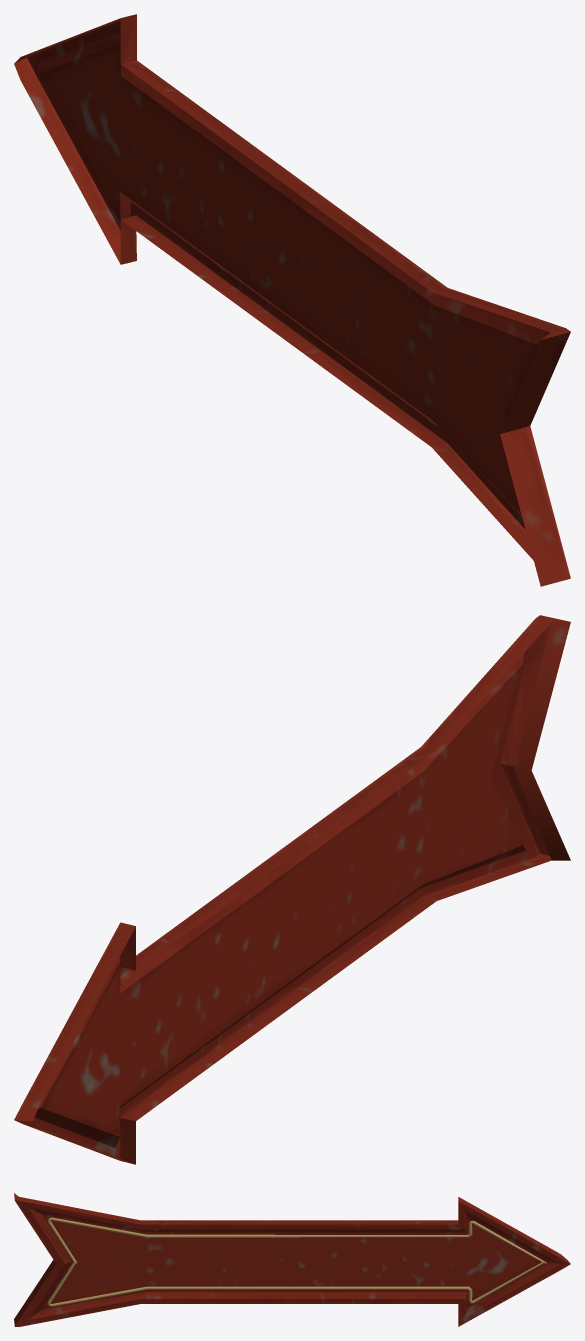
The model's file is ArrowSign_2.fbx.
3 views of the same model, one above another, from view 1: azimuth 30°, elevation 25°; view 2: azimuth 150°, elevation 25°; view 3: azimuth 270°, elevation 25° (orthographic). The views are drawn at different scales.
Parts seen in each view (by area): view 1: ArrowLight_Sign; view 2: ArrowLight_Sign; view 3: ArrowLight_Sign, ArrowLight_Light_2, ArrowLight_Light_1.
Boxes of the visible parts, bbox=[...] form: ArrowLight_Sign: bbox=[14, 14, 570, 586]; ArrowLight_Sign: bbox=[14, 615, 570, 1164]; ArrowLight_Sign: bbox=[14, 1193, 570, 1326]; ArrowLight_Light_2: bbox=[47, 1262, 545, 1306]; ArrowLight_Light_1: bbox=[47, 1217, 546, 1263].
Size of the model in its own units: 4.65 by 35.32 by 141.
